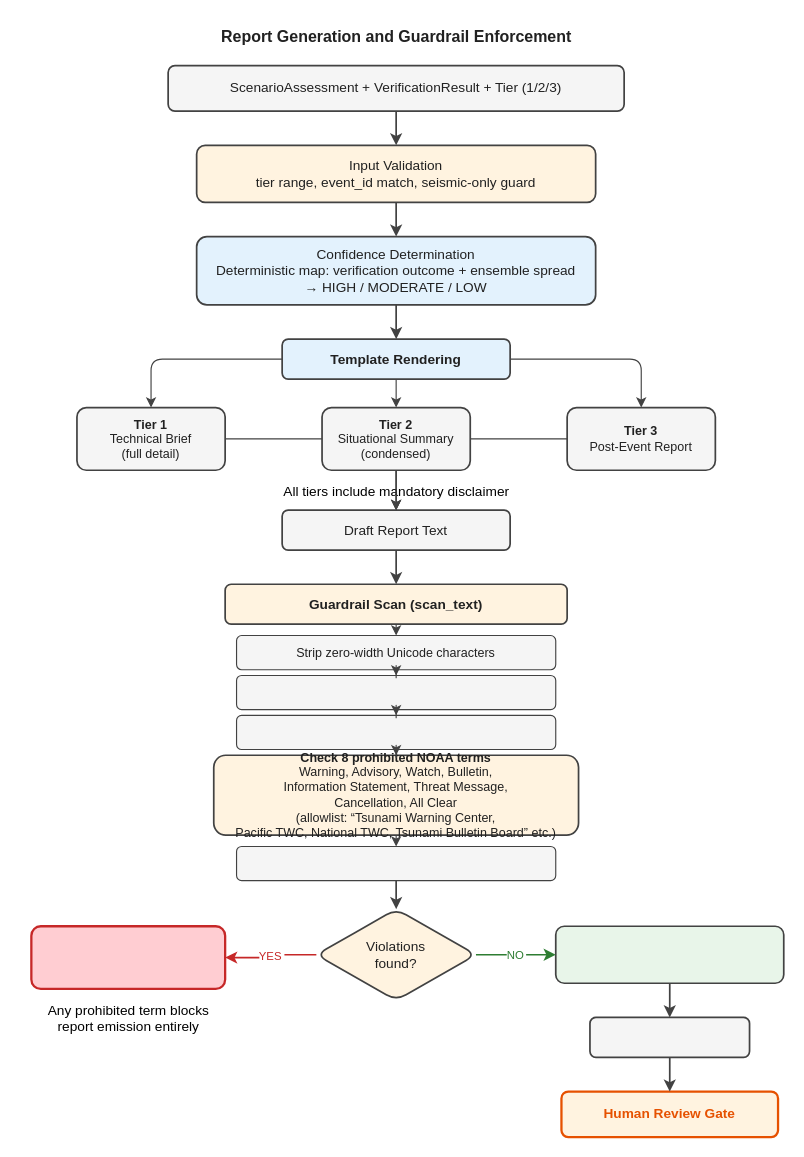
Some shapes in this 804 by 1157 pixel diagram are drawn without their labels. Here are the shapes that lost their labels. From the top down, the centre of each, then its label:
At pixel 395 692: "NFKC normalization".
At pixel 395 732: "Confusable character translation (Cyrillic/Greek → Latin)".
At pixel 395 863: "Verify mandatory disclaimer present".
At pixel 128 957: "FAIL-CLOSED GuardrailScanError Report BLOCKED".
At pixel 669 954: "FinalAssessment status = PROVISIONAL".
At pixel 669 1037: "Audit Log".
